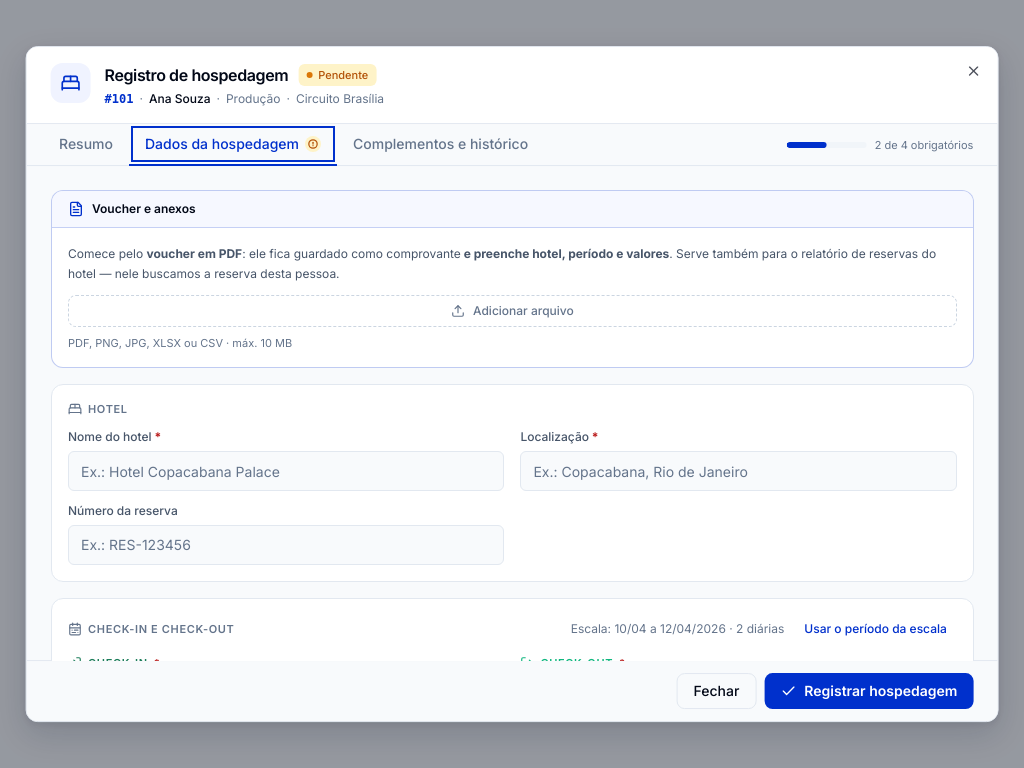
Test case: AccommodationModal › obrigatórios vazios: Registrar marca hotel e localização com aria-invalid + mensagens, foca o primeiro e NÃO salva
Click the button "Registrar hospedagem".
click(869, 691)  # box [764,673,973,709]
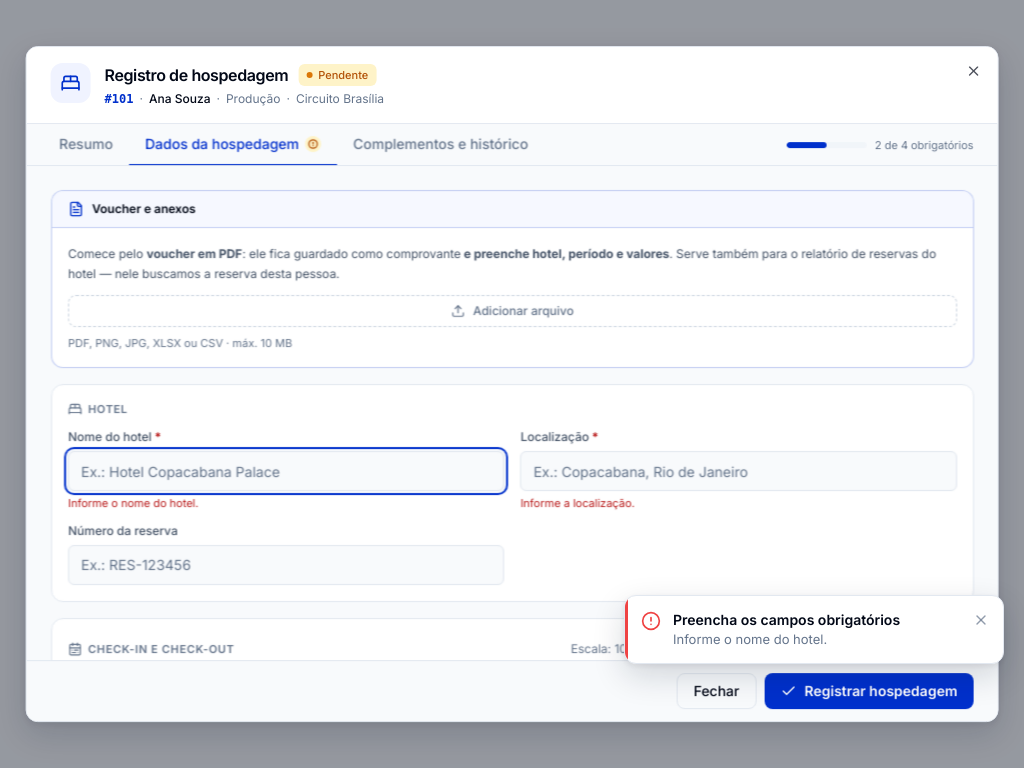
Now the message "Informe o nome do hotel." is shown, box [68,496,198,510]
Now the message "Informe a localização." is shown, box [520,496,634,510]
